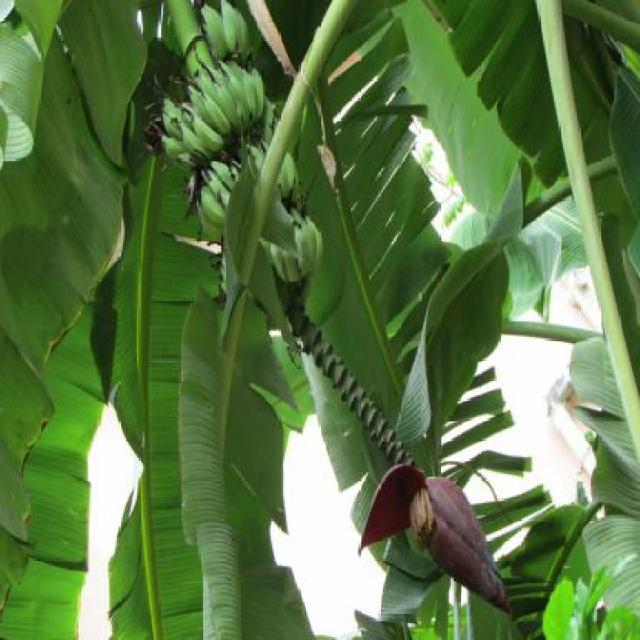Banana: (139, 0, 323, 300)
